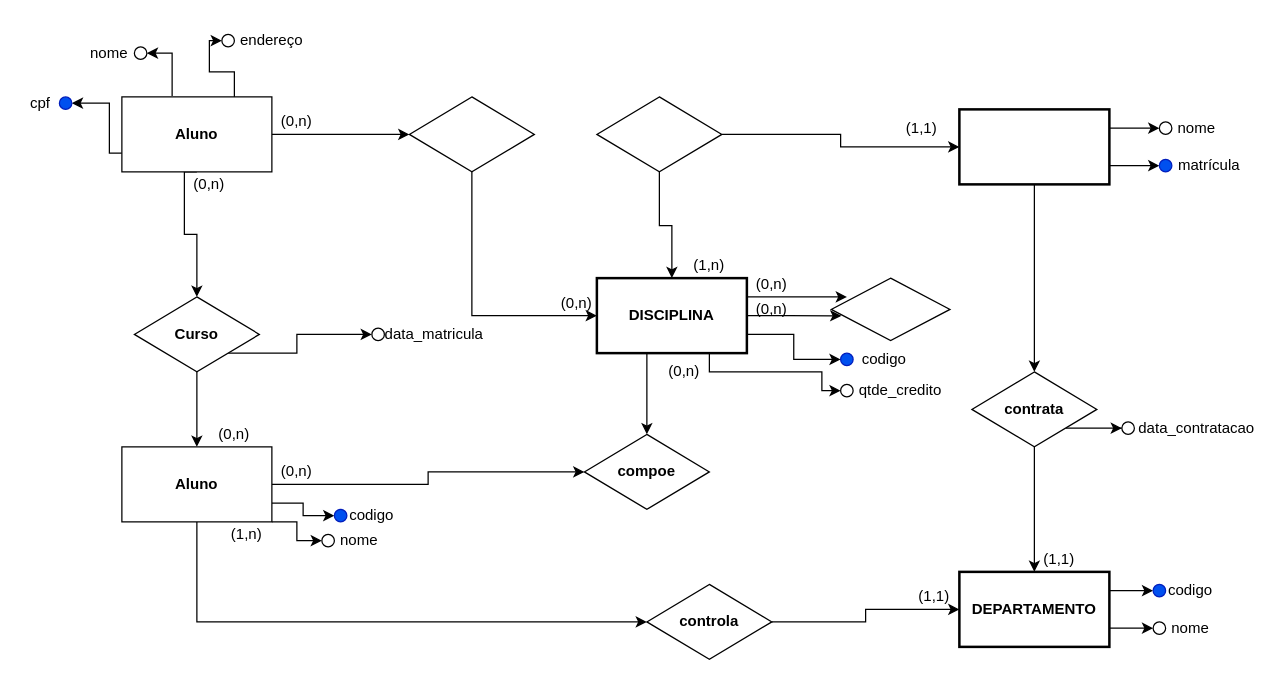
Some shapes in this 1280 by 681 pixel diagram are drawn without their labels. The shapes that lost their labels are listed below. From the top down, each one's centre as x and y in pixels, then its label:
At point (471, 134): "cursa".
At point (659, 134): "leciona".
At point (1034, 146): "PROFESSOR".
At point (890, 309): "pre-requisito".
